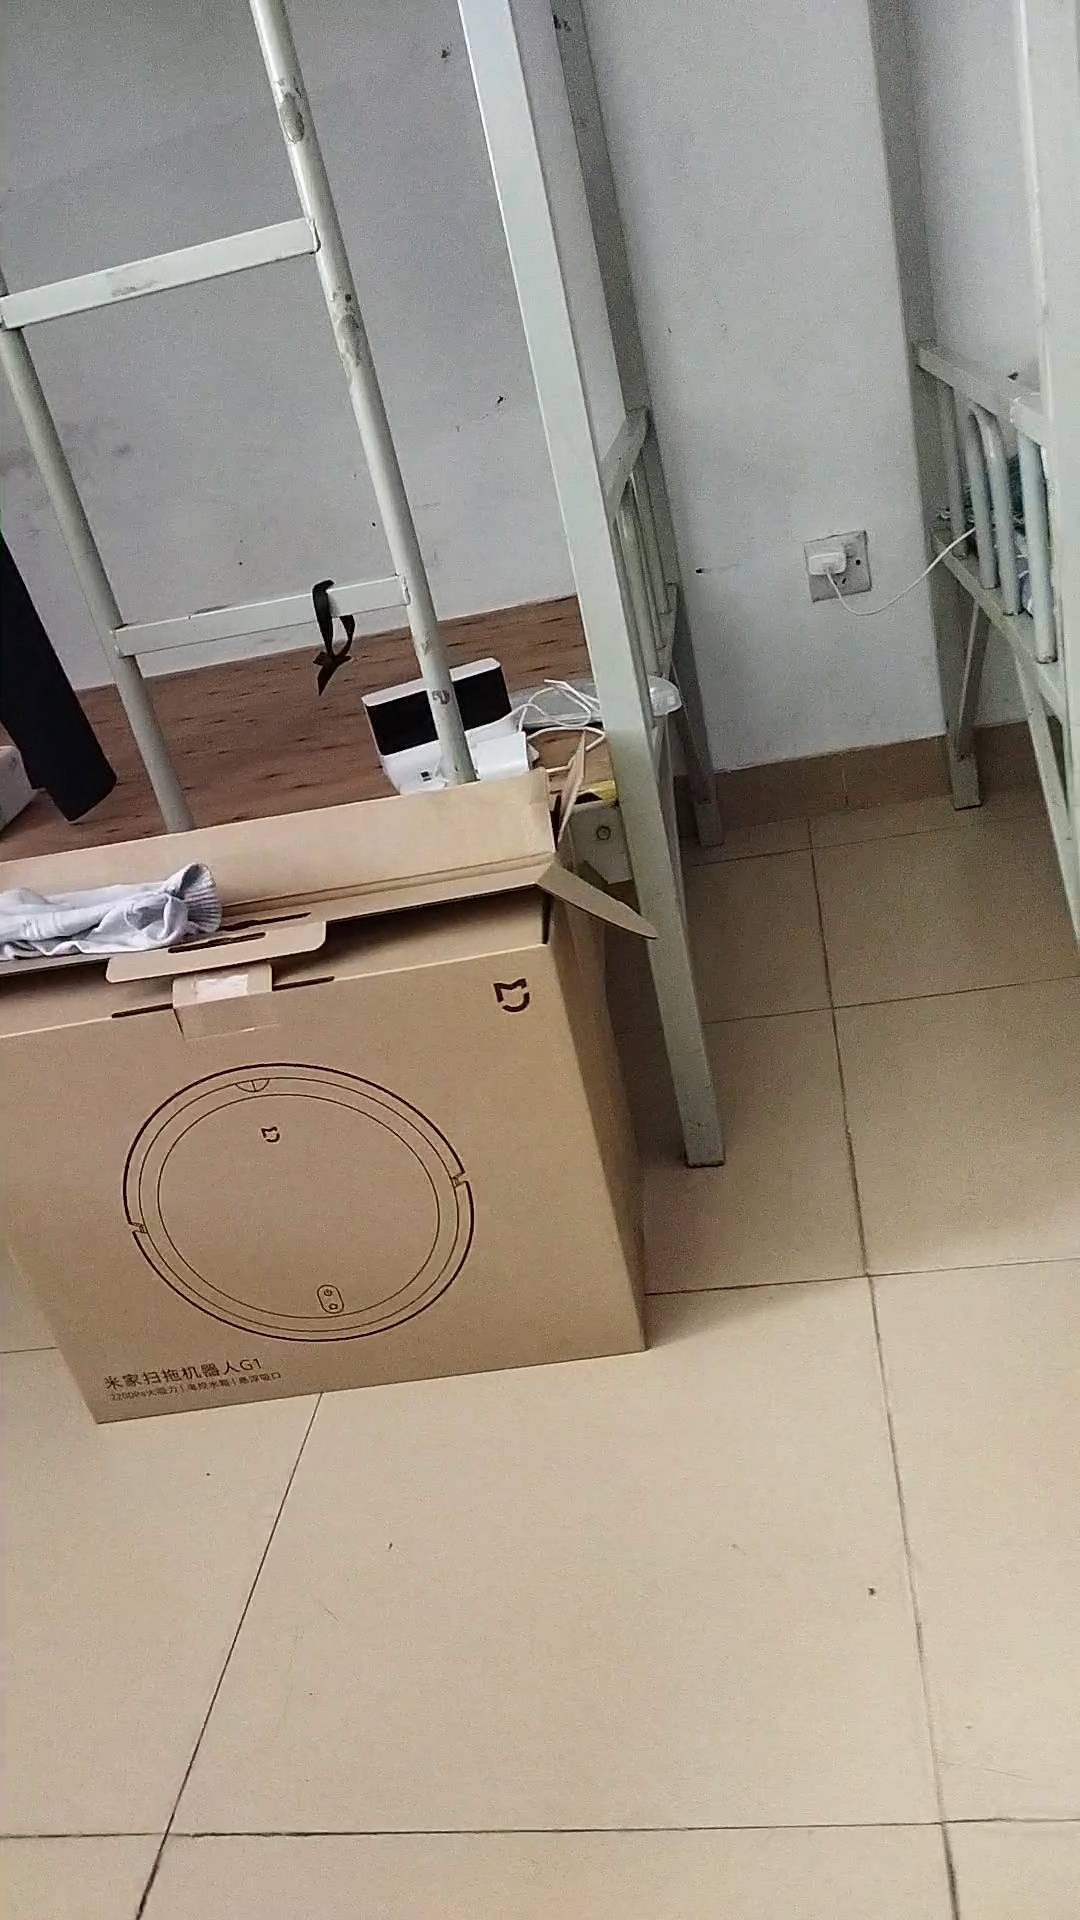recharge seat: (361, 655, 541, 793)
